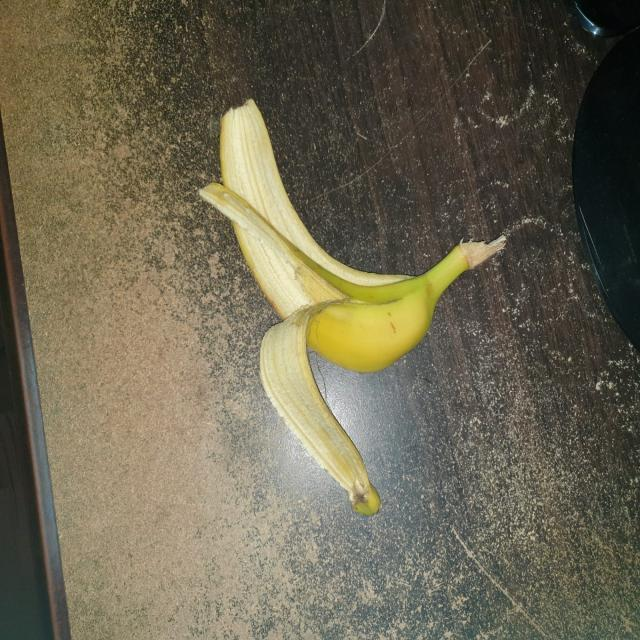banana-peel: (198, 97, 507, 515)
